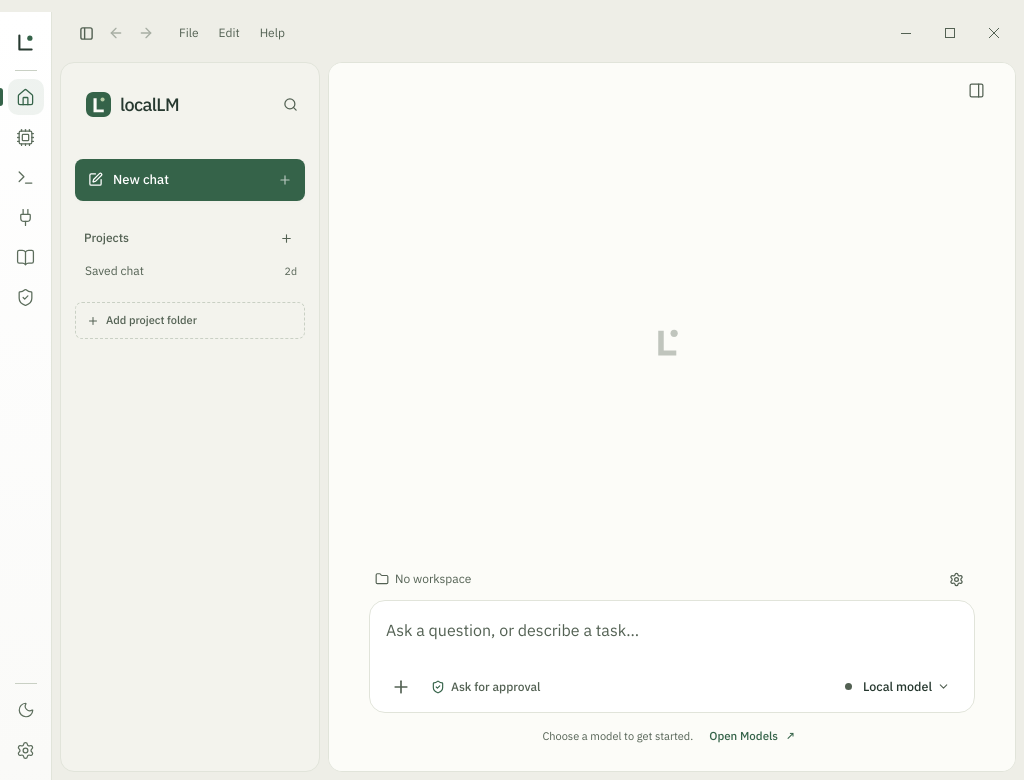
Scenario: workspace panel chrome › shares the full canvas height with chat and shows one set of panel actions
This screenshot has width=1024, height=780.
Click the button "Saved chat": {"x": 181, "y": 271} 85,263 -> 277,279
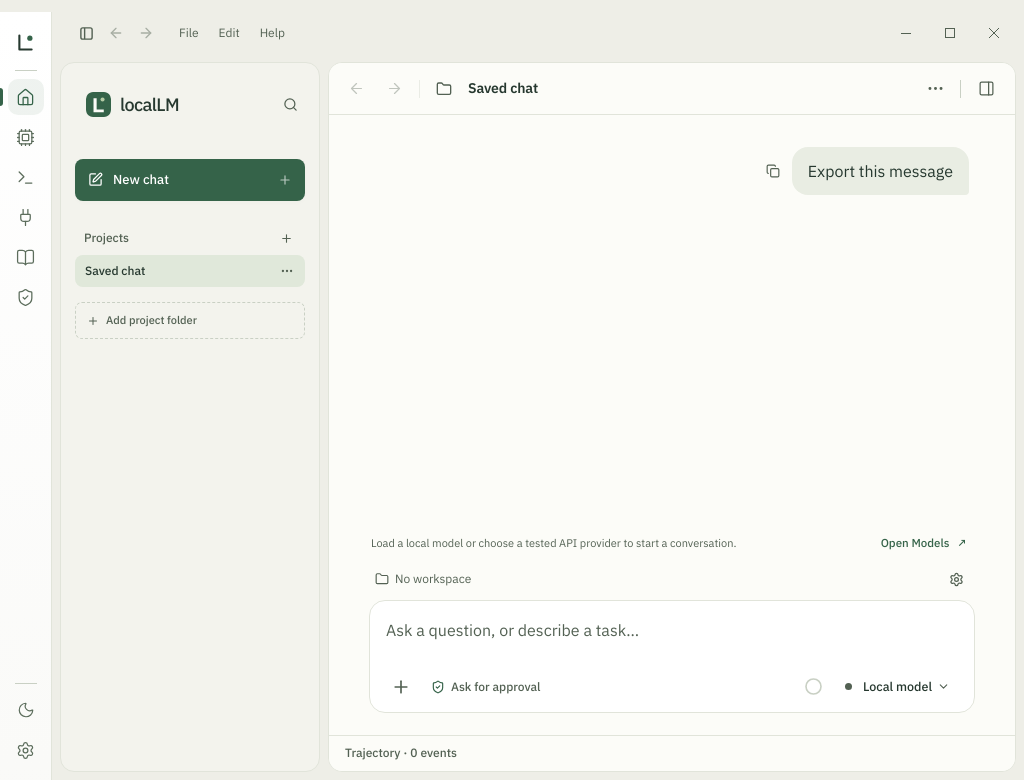
Expected: the header with class "workspace-header" is shown, 329,63 -> 1015,115
Expected: the text "Export this message" is shown, 808,157 -> 953,185
In the text box named "Message": {"x": 672, "y": 637} 386,615 -> 958,659, type "Keep my draft"
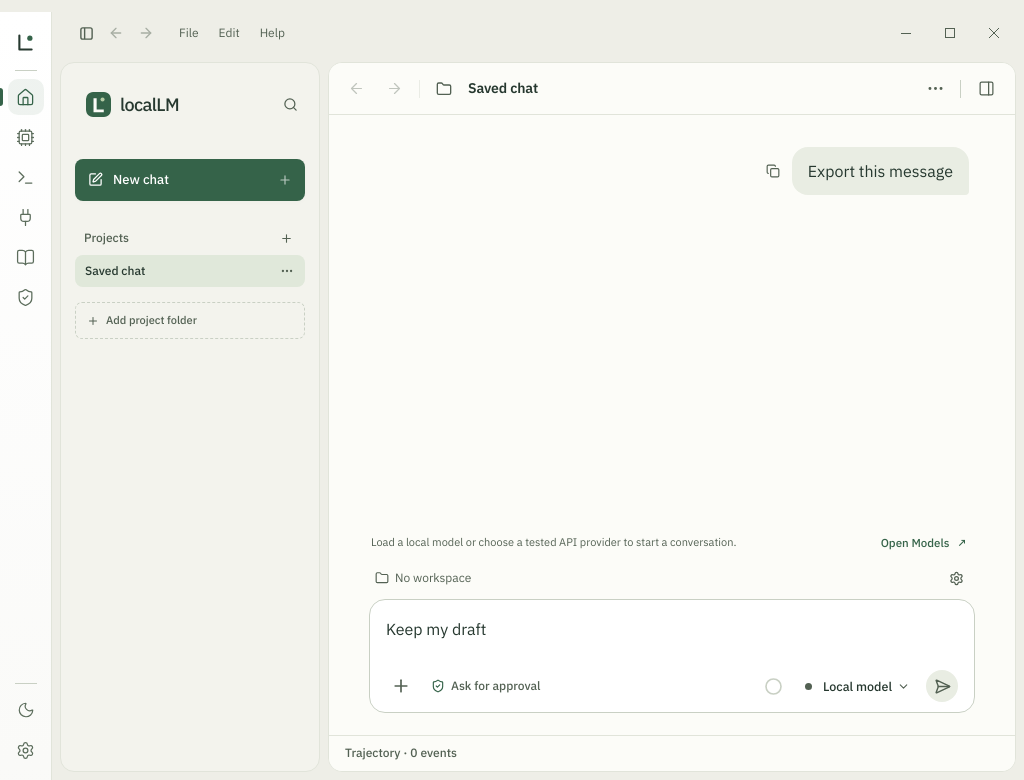
Click the button named "Toggle workspace panel": {"x": 986, "y": 88} 971,74 -> 1001,104
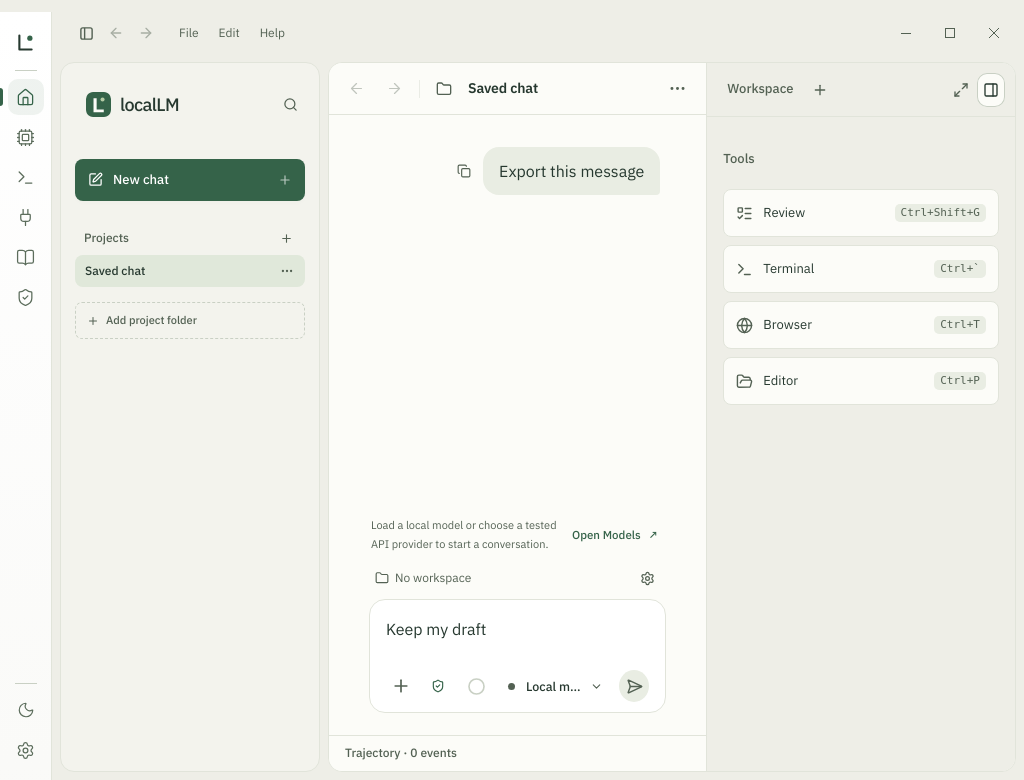
Expected: the number of buttons named "Expand panel" is 1, 947,72 -> 975,106
Click the button named "Close inspector": {"x": 991, "y": 90} 977,72 -> 1005,106
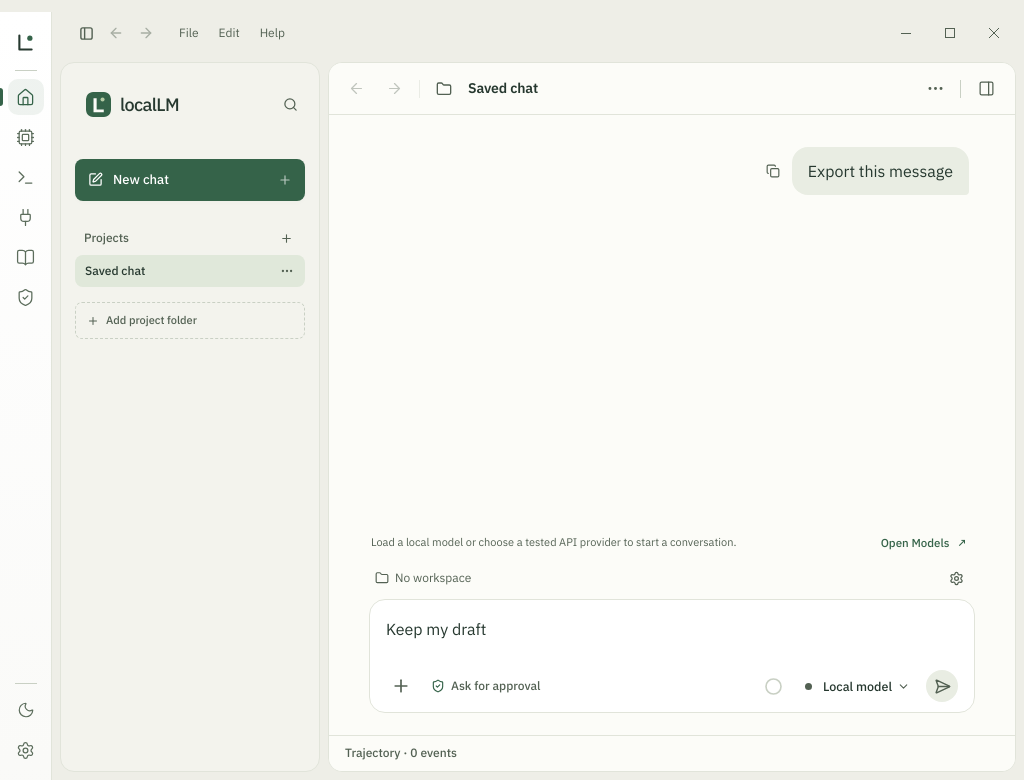
Expected: the button named "Toggle workspace panel" is shown, 971,74 -> 1001,104
